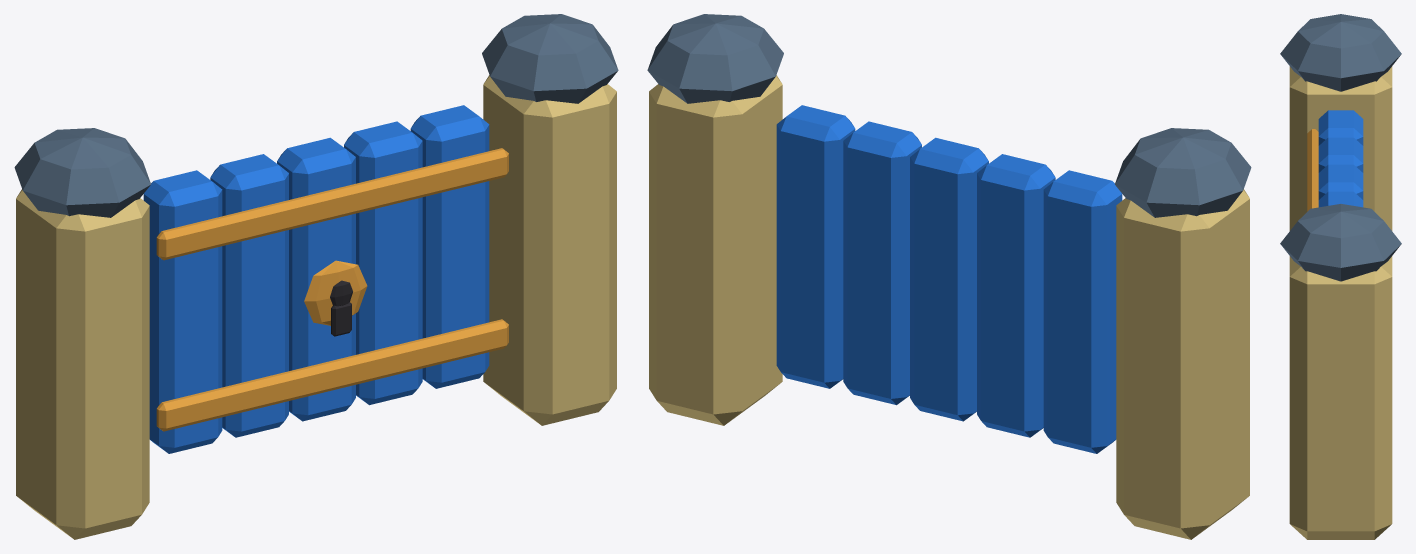
The model's file is gate_blue.glb.
3 renders of one model, left to right at view 1: azimuth 30°, elevation 25°; view 2: azimuth 150°, elevation 25°; view 3: azimuth 270°, elevation 25°, orthographic. The views are drawn at different scales.
Visible parts, largest first — view 1: gate_blue_Surface, gate_blue_GateHinge_Surface; view 2: gate_blue_Surface, gate_blue_GateHinge_Surface; view 3: gate_blue_Surface, gate_blue_GateHinge_Surface.
Part boxes in pixels (x1=…): gate_blue_Surface: x1=14, y1=14, x2=618, y2=539; gate_blue_GateHinge_Surface: x1=143, y1=105, x2=508, y2=453; gate_blue_Surface: x1=647, y1=14, x2=1251, y2=539; gate_blue_GateHinge_Surface: x1=776, y1=105, x2=1122, y2=453; gate_blue_Surface: x1=1280, y1=14, x2=1401, y2=539; gate_blue_GateHinge_Surface: x1=1307, y1=110, x2=1363, y2=211.
Size of the model in its own units: 1.76 by 1.09 by 0.38.
Materials: 1 (1 with a texture image).
